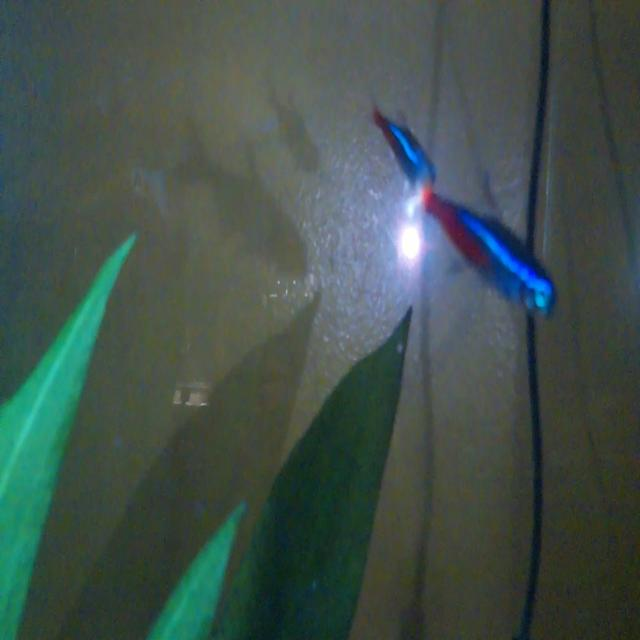fish: (424, 184, 560, 325), (368, 94, 439, 191)
